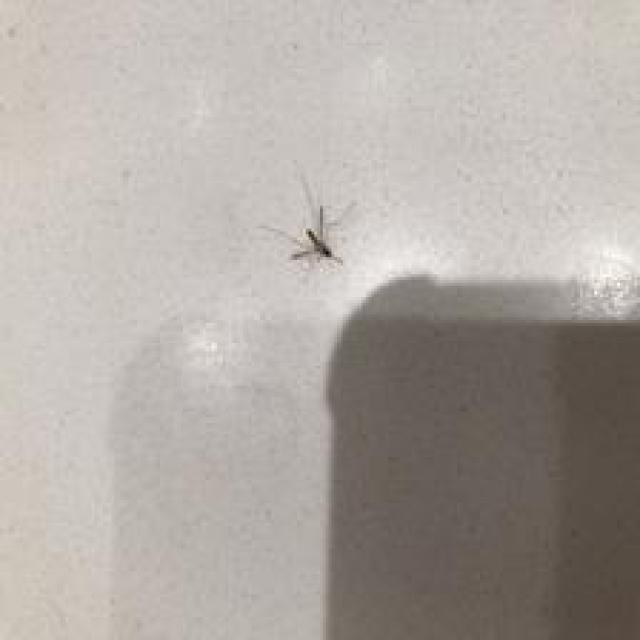Culex: (258, 172, 358, 272)
